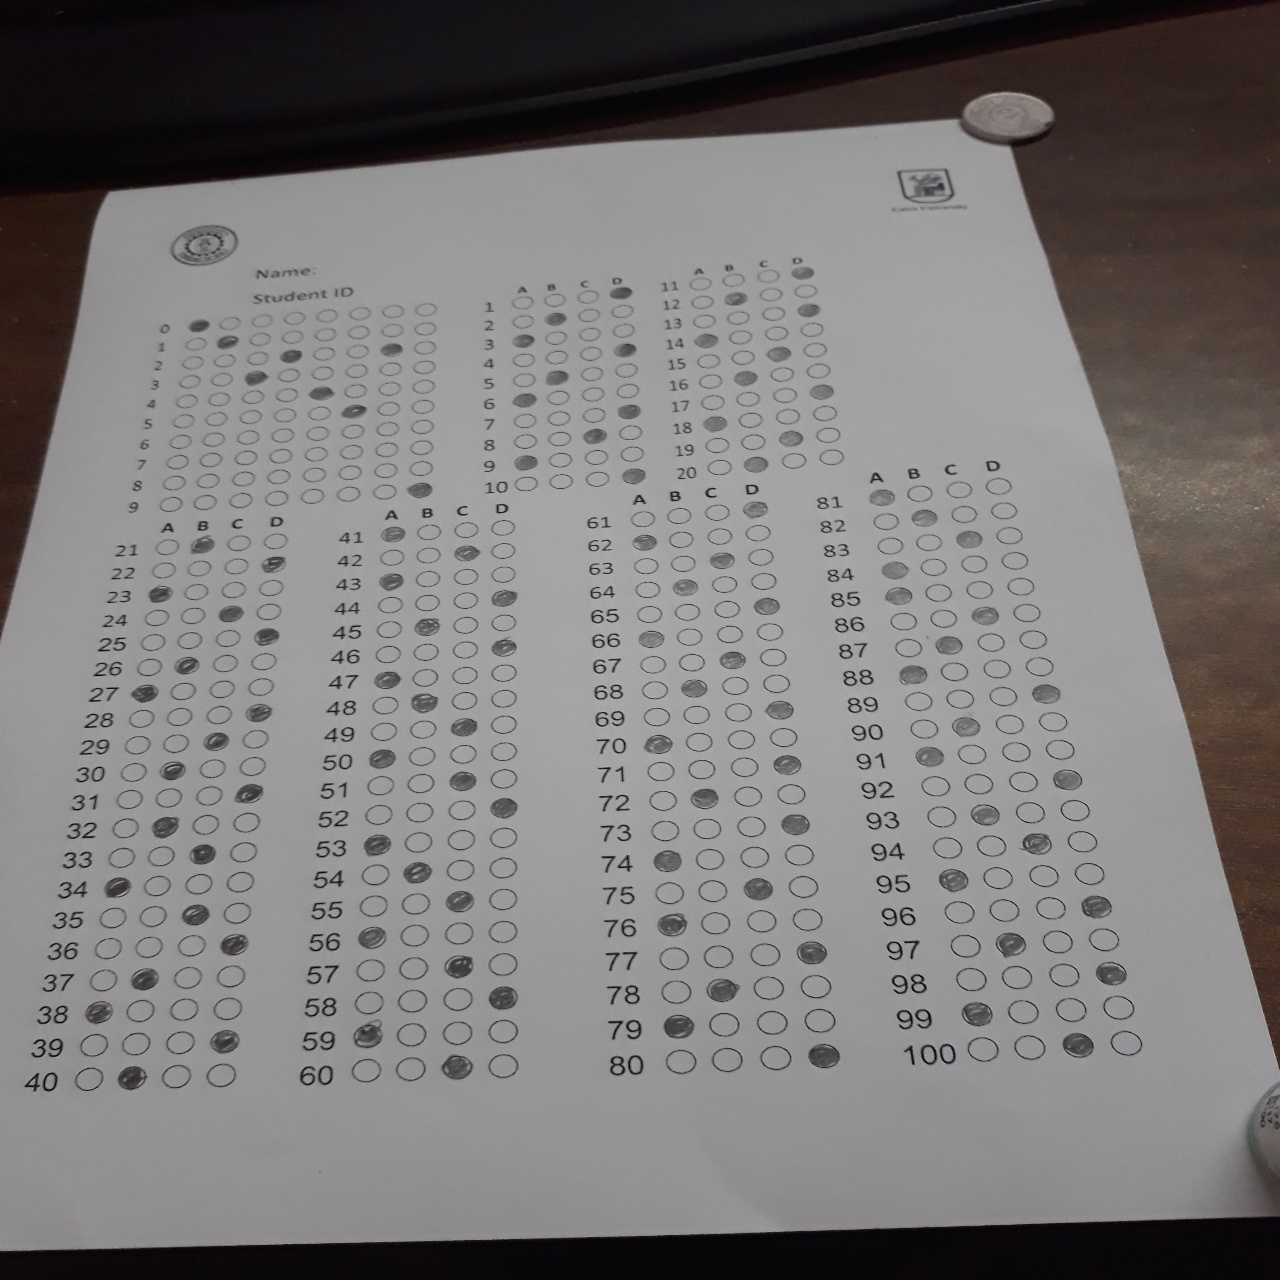not-c: (1012, 799, 1049, 824), (1007, 768, 1044, 792), (1000, 738, 1037, 763), (1101, 995, 1138, 1019), (1054, 998, 1091, 1021), (1042, 930, 1080, 953), (1024, 864, 1062, 887), (799, 972, 833, 998), (1036, 896, 1073, 919), (707, 1012, 740, 1037), (659, 945, 692, 971), (699, 911, 731, 937), (745, 908, 779, 933), (663, 1048, 697, 1073), (692, 813, 726, 838), (772, 782, 806, 806), (1109, 1032, 1146, 1054), (1047, 962, 1084, 985), (1002, 964, 1034, 989), (1007, 998, 1039, 1023), (783, 840, 815, 866), (737, 813, 769, 839), (173, 964, 205, 989), (948, 933, 981, 958), (1014, 1034, 1047, 1058), (966, 1036, 999, 1061), (758, 1009, 791, 1034), (753, 973, 785, 998), (738, 844, 771, 869), (694, 844, 727, 869), (729, 753, 762, 777), (79, 1032, 111, 1056), (75, 1065, 105, 1091), (1081, 893, 1111, 919), (1062, 1032, 1092, 1057), (803, 1008, 835, 1033), (789, 874, 821, 899), (760, 1046, 791, 1070), (710, 1047, 742, 1071), (703, 945, 735, 969), (662, 980, 694, 1005), (656, 880, 688, 905), (397, 987, 429, 1012), (488, 1053, 519, 1077), (217, 964, 248, 988), (178, 933, 210, 958), (139, 904, 171, 928), (100, 905, 131, 930), (183, 870, 215, 894), (226, 871, 258, 896), (145, 842, 177, 866), (956, 967, 989, 990), (792, 906, 825, 930), (750, 942, 783, 966), (697, 880, 730, 904), (488, 1017, 520, 1041), (120, 1032, 152, 1055), (86, 968, 118, 992), (962, 577, 996, 599), (995, 931, 1024, 956), (443, 985, 474, 1009), (444, 1020, 475, 1044), (1096, 960, 1126, 985), (962, 1000, 993, 1024), (939, 865, 969, 890), (734, 783, 765, 806), (352, 1058, 383, 1082), (394, 1056, 425, 1080), (207, 1063, 239, 1087), (161, 1064, 192, 1088), (125, 998, 157, 1021), (169, 998, 200, 1021), (135, 935, 166, 959), (220, 900, 252, 924), (142, 874, 173, 898), (230, 839, 261, 863), (108, 845, 139, 869), (924, 805, 956, 828), (884, 583, 917, 605), (1022, 831, 1051, 856), (914, 743, 944, 768), (993, 713, 1027, 734), (987, 685, 1021, 706), (974, 631, 1008, 652), (981, 658, 1015, 679), (959, 552, 993, 573), (947, 503, 981, 524), (396, 1022, 427, 1046), (164, 1029, 195, 1053), (213, 996, 244, 1020), (95, 937, 125, 960), (920, 774, 952, 796), (932, 836, 964, 858), (976, 835, 1008, 857), (983, 865, 1015, 887), (989, 898, 1021, 920), (765, 727, 801, 747), (1058, 799, 1091, 821), (1073, 863, 1105, 884), (1089, 928, 1122, 949), (903, 690, 935, 712), (965, 772, 998, 794), (727, 728, 760, 749), (685, 731, 717, 753), (719, 674, 751, 695), (897, 663, 930, 685), (360, 863, 390, 885), (447, 859, 477, 881), (489, 953, 519, 975), (399, 956, 429, 979), (1044, 738, 1076, 760), (1065, 830, 1097, 851), (907, 717, 939, 738), (956, 744, 988, 765), (726, 701, 757, 722), (681, 702, 713, 723), (682, 758, 714, 779), (647, 760, 679, 781), (649, 789, 681, 810), (649, 821, 681, 842), (641, 678, 673, 699), (763, 674, 795, 695), (757, 646, 789, 667), (676, 652, 708, 673), (636, 652, 668, 673), (675, 626, 707, 647), (714, 622, 745, 644), (754, 618, 785, 639), (750, 571, 782, 592), (195, 785, 226, 806), (196, 757, 227, 778), (159, 731, 191, 753), (121, 733, 152, 754), (125, 707, 157, 728), (166, 679, 198, 700), (173, 629, 206, 649), (491, 856, 520, 878), (400, 925, 429, 947), (355, 990, 384, 1013), (642, 707, 673, 728), (360, 896, 390, 917), (488, 921, 518, 942), (111, 817, 142, 838), (191, 813, 222, 835), (154, 787, 184, 808), (116, 789, 147, 810), (241, 728, 272, 749), (164, 704, 195, 726), (204, 704, 234, 726), (207, 679, 238, 700), (212, 653, 243, 674), (248, 651, 279, 672), (945, 903, 976, 922), (236, 756, 267, 776), (1039, 712, 1070, 731), (893, 636, 922, 658), (940, 659, 969, 680), (945, 687, 974, 708), (668, 527, 697, 549), (489, 887, 518, 908), (401, 893, 430, 914), (443, 921, 472, 942), (872, 536, 905, 554), (918, 557, 951, 576), (233, 812, 264, 832), (118, 761, 149, 781), (246, 676, 277, 696), (136, 658, 166, 678), (942, 481, 976, 498), (489, 828, 517, 849), (449, 829, 477, 850), (358, 960, 386, 981), (215, 628, 246, 647), (257, 578, 288, 597), (1053, 769, 1082, 789), (925, 583, 954, 602), (747, 546, 776, 566), (674, 600, 703, 620), (632, 556, 661, 576), (871, 512, 904, 530), (913, 531, 946, 549), (926, 610, 959, 627), (1017, 629, 1048, 648), (1024, 656, 1055, 675), (218, 580, 248, 599), (149, 561, 179, 580), (223, 532, 253, 551), (367, 774, 394, 795), (366, 802, 393, 823), (406, 830, 433, 851), (888, 610, 917, 629), (745, 522, 774, 542), (636, 602, 665, 622), (670, 554, 699, 574), (634, 578, 662, 598), (628, 508, 656, 527), (703, 501, 731, 520), (813, 425, 842, 445), (408, 745, 436, 765), (869, 488, 900, 505), (1007, 577, 1036, 595), (1013, 602, 1042, 621), (663, 506, 693, 525), (811, 404, 840, 423), (139, 632, 169, 651), (253, 601, 282, 620), (220, 557, 250, 576), (260, 531, 290, 550), (154, 537, 183, 556), (901, 484, 934, 501), (415, 520, 442, 540), (408, 772, 435, 792), (406, 802, 433, 822), (448, 798, 475, 818), (1000, 551, 1030, 568), (139, 607, 170, 625), (183, 583, 213, 600), (183, 560, 213, 578), (878, 561, 908, 579), (708, 525, 736, 544), (713, 599, 741, 618), (818, 448, 846, 467), (806, 361, 835, 380), (375, 645, 403, 663), (449, 692, 477, 710), (181, 607, 210, 625), (804, 338, 830, 358), (712, 574, 738, 593), (490, 768, 517, 787), (415, 570, 442, 588), (452, 590, 479, 608), (377, 595, 404, 614), (452, 640, 479, 659), (377, 619, 404, 638), (451, 666, 478, 685), (413, 667, 440, 686), (410, 720, 437, 738), (983, 477, 1014, 493), (268, 427, 297, 444), (489, 689, 517, 707), (491, 742, 519, 760), (452, 567, 481, 585), (377, 549, 406, 566), (415, 593, 443, 611), (413, 641, 441, 659), (372, 694, 400, 712), (370, 721, 399, 738), (449, 743, 477, 761), (584, 448, 611, 465), (313, 324, 340, 341), (311, 343, 338, 361), (304, 425, 331, 443), (298, 488, 325, 505), (265, 490, 292, 508), (266, 469, 293, 486), (268, 448, 295, 465), (275, 386, 302, 403), (277, 365, 304, 382), (241, 387, 268, 404), (238, 407, 265, 424), (159, 493, 186, 511), (195, 474, 222, 491), (161, 474, 188, 491), (170, 411, 197, 429), (176, 372, 203, 389), (179, 352, 206, 369), (184, 333, 211, 350), (489, 542, 516, 559), (489, 714, 516, 731), (452, 519, 479, 537), (416, 546, 443, 564), (452, 617, 479, 634), (994, 527, 1024, 543), (990, 502, 1019, 518), (697, 374, 726, 390), (579, 306, 605, 324), (272, 406, 298, 423), (234, 448, 260, 465), (231, 469, 257, 486), (799, 321, 826, 338), (686, 273, 713, 290), (761, 325, 788, 341), (692, 312, 719, 328), (772, 388, 799, 404), (772, 408, 799, 424), (737, 413, 764, 429), (740, 433, 767, 449), (619, 445, 646, 462), (618, 423, 645, 440), (613, 382, 640, 399), (542, 292, 568, 308), (506, 292, 533, 308), (579, 327, 606, 343), (578, 343, 605, 360), (578, 366, 605, 382), (580, 386, 607, 402), (545, 389, 572, 406), (279, 328, 306, 345), (312, 363, 339, 380), (305, 406, 332, 422), (305, 445, 332, 462), (302, 467, 329, 483), (245, 350, 272, 367), (236, 430, 263, 447), (229, 492, 256, 509), (195, 493, 222, 510), (198, 452, 225, 469), (164, 452, 191, 469), (199, 431, 226, 448), (168, 433, 195, 449), (203, 410, 230, 427), (173, 392, 200, 408), (207, 370, 234, 387), (217, 315, 244, 332), (490, 566, 517, 583), (491, 614, 518, 631), (489, 663, 516, 680), (794, 282, 819, 299), (721, 271, 747, 287), (690, 292, 716, 308), (760, 305, 785, 321), (695, 352, 721, 368), (769, 367, 795, 383), (700, 394, 726, 410), (613, 361, 639, 377), (509, 314, 535, 331), (512, 352, 538, 368), (543, 348, 568, 365), (511, 372, 537, 388), (583, 407, 608, 423), (585, 470, 611, 486), (515, 476, 540, 492), (413, 320, 438, 336), (414, 359, 440, 375), (373, 484, 399, 501), (336, 486, 362, 503), (248, 329, 274, 346), (205, 390, 231, 407), (212, 350, 238, 367), (758, 287, 785, 302), (730, 349, 757, 365), (704, 437, 731, 452), (704, 459, 731, 475), (781, 451, 808, 467), (610, 324, 636, 339), (542, 329, 568, 345), (546, 411, 573, 427), (512, 411, 539, 427), (546, 431, 573, 447), (510, 433, 537, 448), (414, 302, 441, 318), (489, 519, 516, 535), (409, 440, 434, 456), (376, 420, 401, 436), (377, 400, 402, 416), (349, 304, 374, 320), (348, 324, 373, 340), (755, 267, 781, 282), (726, 308, 751, 324), (728, 328, 754, 343), (735, 392, 761, 407), (610, 302, 635, 318), (577, 288, 602, 304), (549, 474, 574, 489), (549, 451, 574, 467), (414, 339, 440, 354), (372, 462, 397, 477), (377, 380, 403, 395), (380, 360, 406, 375), (380, 322, 406, 338), (380, 302, 406, 318), (248, 311, 274, 326), (345, 343, 370, 359), (411, 377, 436, 393), (411, 399, 436, 414), (411, 418, 436, 434), (409, 462, 434, 477), (375, 441, 400, 456), (316, 308, 341, 324), (284, 309, 308, 325), (343, 382, 368, 397), (341, 424, 366, 440), (340, 443, 365, 458), (340, 464, 365, 479), (343, 365, 369, 379)
taken-c: (488, 986, 520, 1009), (441, 1055, 474, 1078), (486, 794, 519, 817), (447, 769, 479, 792), (363, 831, 395, 855), (449, 715, 481, 738), (796, 940, 826, 964), (707, 978, 737, 1001), (663, 1014, 694, 1037), (444, 890, 475, 913), (117, 1065, 148, 1089), (442, 955, 474, 978), (356, 926, 388, 948), (402, 862, 434, 884), (368, 745, 400, 768), (352, 1024, 384, 1046), (743, 878, 772, 901), (654, 849, 685, 871), (658, 914, 688, 937), (810, 1043, 840, 1065), (933, 634, 965, 655), (968, 803, 1000, 824), (489, 586, 520, 607), (955, 527, 986, 549), (409, 692, 440, 713), (375, 570, 406, 591), (1030, 685, 1062, 704), (949, 716, 981, 736), (968, 607, 1000, 627), (907, 506, 939, 526), (779, 813, 811, 833), (373, 669, 404, 689), (413, 617, 444, 636), (486, 636, 518, 656), (104, 874, 132, 897), (220, 933, 248, 955), (131, 967, 159, 989), (86, 1000, 114, 1022), (181, 903, 210, 924), (377, 523, 408, 543), (644, 734, 673, 754), (211, 1032, 240, 1051), (772, 754, 803, 772), (203, 731, 230, 753), (236, 783, 264, 803), (159, 760, 188, 779), (189, 844, 217, 864), (690, 789, 720, 808), (152, 816, 179, 836), (753, 597, 783, 614), (679, 679, 709, 696), (512, 452, 540, 471), (260, 554, 288, 573), (217, 604, 245, 622), (716, 651, 745, 668), (188, 536, 215, 554), (629, 535, 660, 551), (636, 629, 667, 646), (765, 701, 794, 719), (452, 544, 481, 561), (511, 389, 539, 407), (509, 331, 537, 348), (544, 367, 572, 384), (253, 627, 281, 645), (244, 703, 272, 721), (131, 685, 159, 702), (693, 332, 722, 348), (741, 501, 770, 517), (670, 579, 700, 595), (278, 346, 305, 363), (147, 586, 173, 604), (173, 655, 200, 673), (795, 302, 825, 318), (702, 415, 730, 431), (789, 264, 818, 279), (723, 291, 753, 306), (762, 346, 791, 361), (742, 457, 771, 472), (377, 340, 404, 356), (407, 482, 434, 498), (340, 402, 367, 418), (216, 333, 243, 349), (217, 332, 244, 348), (806, 384, 837, 399), (731, 369, 760, 384), (709, 552, 737, 567), (308, 384, 336, 400), (184, 316, 212, 332), (772, 431, 802, 445), (245, 369, 272, 384), (620, 467, 646, 482), (608, 284, 633, 299), (543, 311, 568, 325), (581, 429, 606, 443), (617, 404, 641, 418), (612, 343, 636, 358)
